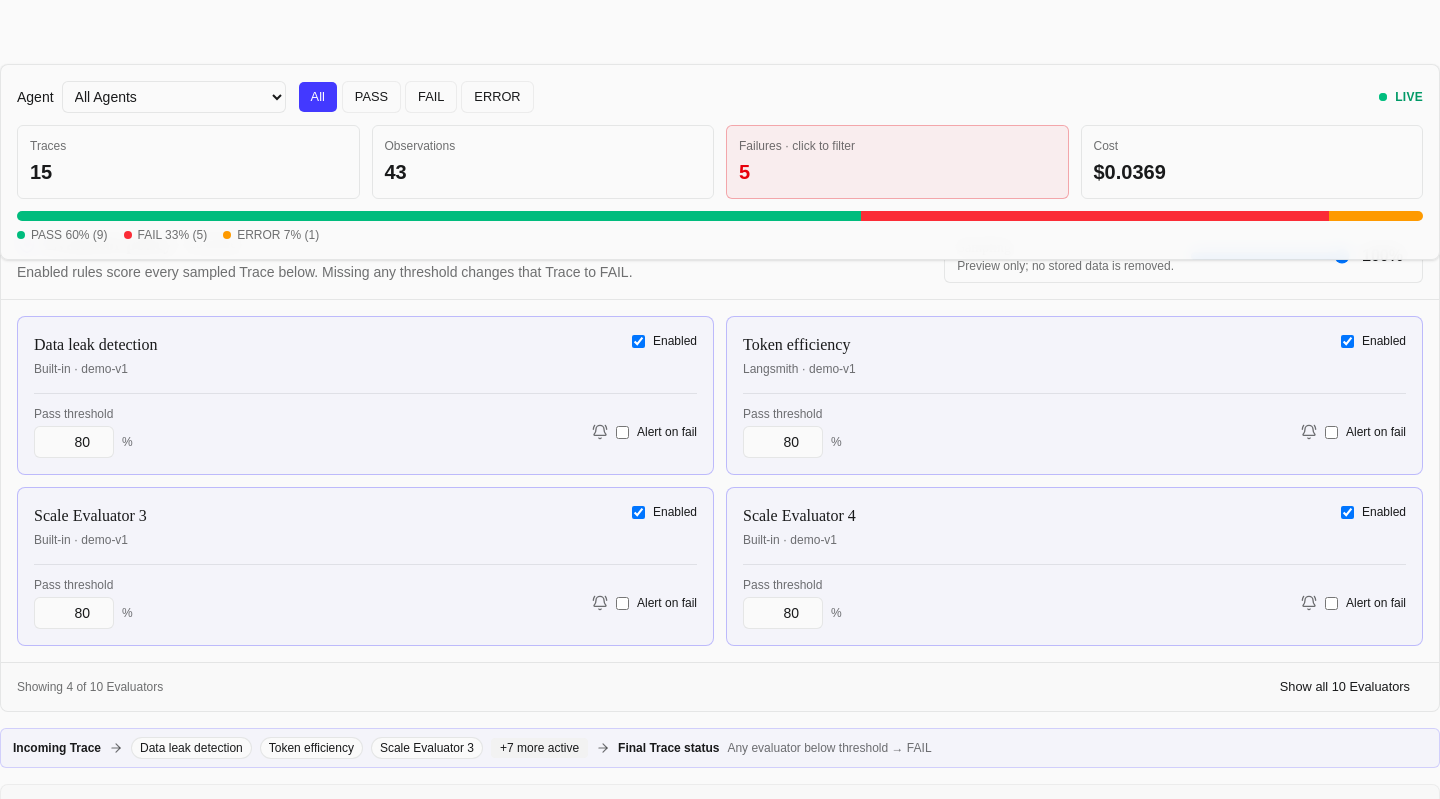
Test: EvaluationOverviewPage › keeps ten Evaluators compact while preserving access to every rule and result
Expected: the text "Showing 4 of 10 Evaluators" is shown, [17, 679, 163, 695]
Expected: the element named "Checks applied to every case" shows "+7 more active", [0, 728, 1439, 768]
Click the button "Show all 10 Evaluators". click: coordinates (1345, 687)
box: [1267, 671, 1423, 703]
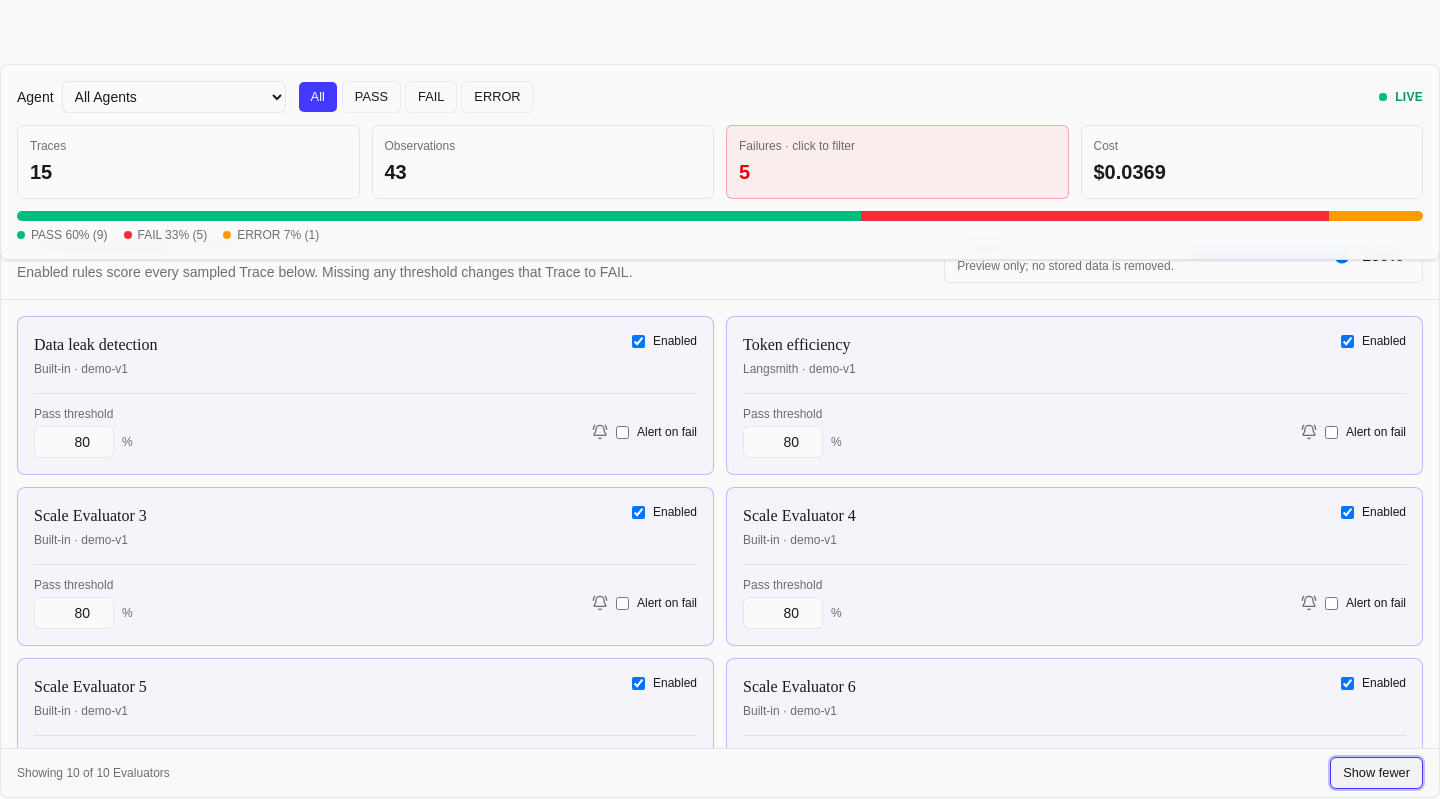
Result: the text "Showing 10 of 10 Evaluators" is shown at [17, 765, 170, 781]
